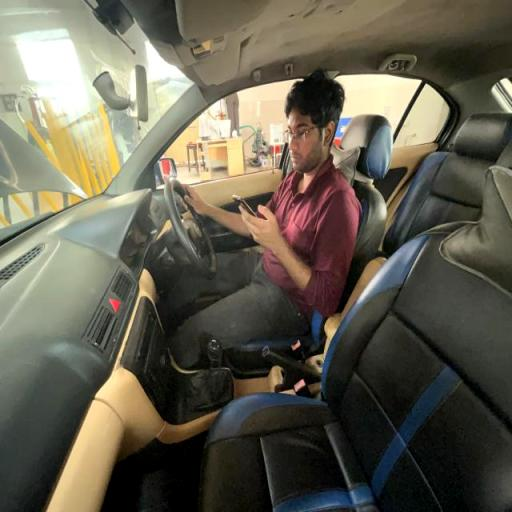Texting_on_phone: (173, 72, 362, 324)
